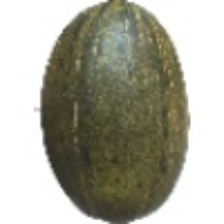honeydew: (0, 46, 202, 206)
